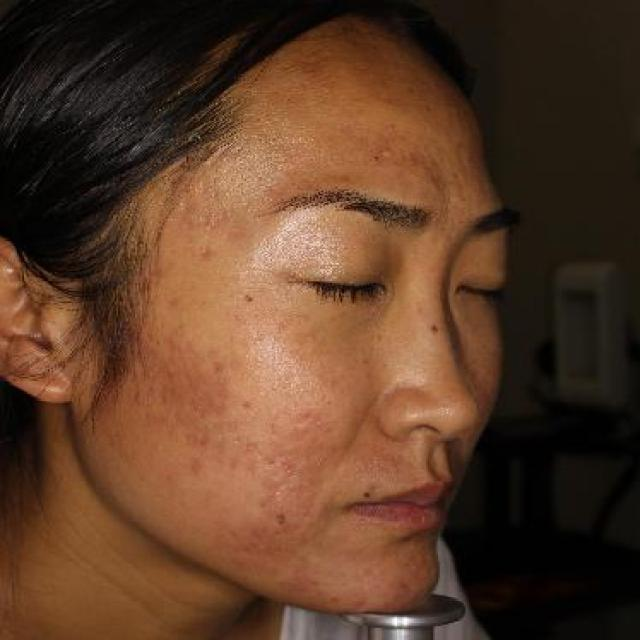dark spot: (265, 509, 298, 529)
papules: (370, 139, 402, 166)
